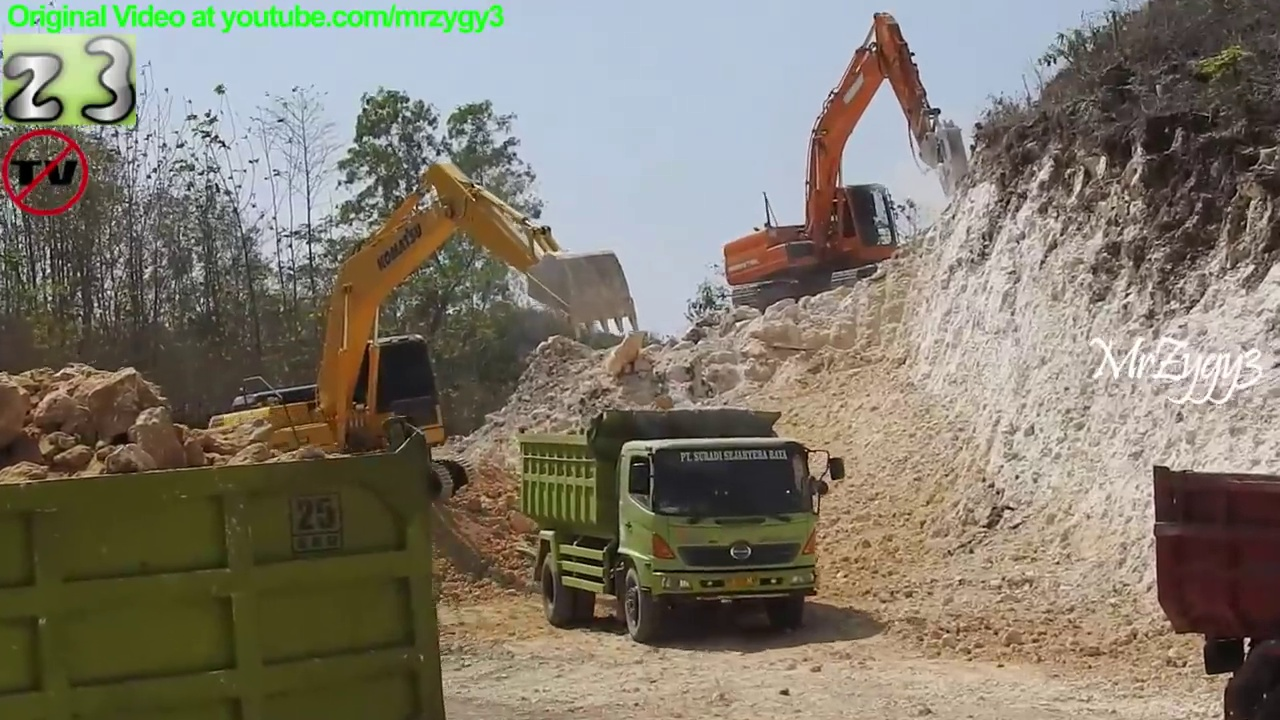excavator: (198, 147, 646, 517), (717, 7, 981, 324)
truck: (1, 399, 460, 720), (512, 406, 851, 650), (1147, 458, 1280, 720)
